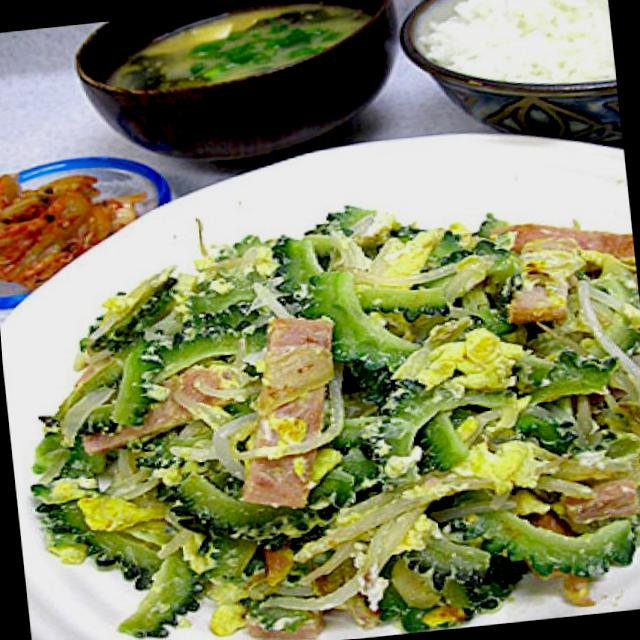Rice: (429, 0, 617, 100)
